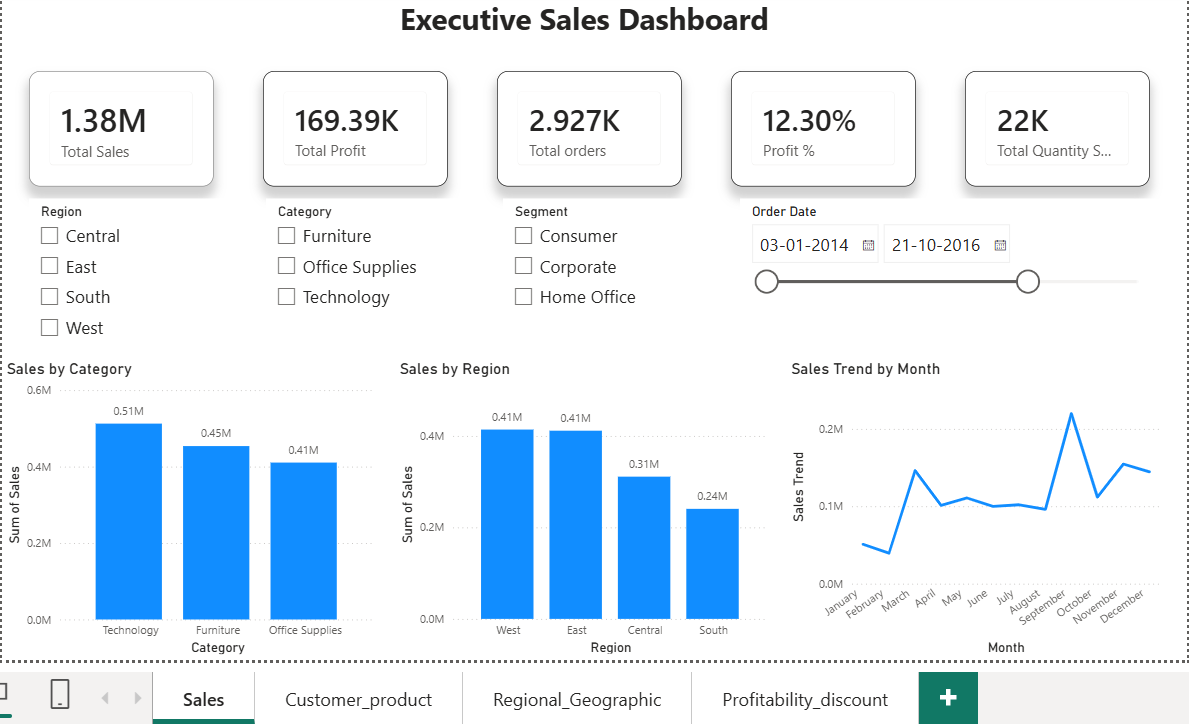

This screenshot's page, from the dashboard's own definition file:
{"tool":"powerbi","page":{"name":"Sales","canvas":[1280,720],"ordinal":0},"visuals":[{"type":"group","id":"g1","title":"Group 1","box":[29.1,84.2,1209.6,124.7],"z":0},{"type":"clusteredColumnChart","title":" Sales by Category","fields":{"Category":["Orders.Category"],"Y":["Sum(Orders.Sales)"]},"box":[0,395.1,407.8,323.8],"z":0,"group":"g2"},{"type":"group","id":"g2","title":"Group 2","box":[0,395.1,1254.9,323.8],"z":1000},{"type":"clusteredColumnChart","title":"Sales by Region","fields":{"Category":["Orders.Region"],"Y":["Sum(Orders.Sales)"]},"box":[423.6,395.1,407.8,323.2],"z":1000,"group":"g2"},{"type":"cardVisual","fields":{"Data":["Sum(Orders.Sales)"]},"box":[29.1,84.2,199.2,124.7],"z":2000,"group":"g1"},{"type":"group","id":"g3","title":"Group 3","box":[29.1,221.8,1219.3,160.3],"z":2000},{"type":"slicer","fields":{"Values":["Orders.Region"]},"box":[29.1,221.8,223.5,160.3],"z":2000,"group":"g3"},{"type":"textbox","box":[424.2,0,422.6,56.7],"z":3000},{"type":"cardVisual","fields":{"Data":["Sum(Orders.Profit)"]},"box":[281.7,84.2,199.2,124.7],"z":3000,"group":"g1"},{"type":"slicer","fields":{"Values":["Orders.Category"]},"box":[285.2,221.8,223,159.7],"z":3000,"group":"g3"},{"type":"cardVisual","fields":{"Data":["Count(Orders.Order ID)"]},"box":[534.3,84.2,199.2,124.7],"z":4000,"group":"g1"},{"type":"slicer","fields":{"Values":["Orders.Segment"]},"box":[540.9,221.8,223,159.7],"z":4000,"group":"g3"},{"type":"slicer","fields":{"Values":["Orders.Order Date"]},"box":[796.6,221.8,451.8,159.7],"z":5000,"group":"g3"},{"type":"lineChart","fields":{"Category":["Orders.Order Date.Variation.Date Hierarchy.Month"],"Y":["Sum(Orders.Sales)"]},"box":[847.2,395.1,407.8,323.2],"z":6000,"group":"g2"},{"type":"cardVisual","fields":{"Data":["Orders.Profit Margin %"]},"box":[786.9,84.2,199.2,124.7],"z":8000,"group":"g1"},{"type":"cardVisual","fields":{"Data":["Sum(Orders.Quantity)"]},"box":[1039.5,84.2,199.2,124.7],"z":9000,"group":"g1"}]}

Visuals, with their boxes on the page's 1280x720 design canvas (x1, y1, x2, y2). These are canvas units, not pixel positions in the 1189x724 screenshot, which may show the page scaled, cropped or inside an application window:
"Group 1" group: box(29, 84, 1239, 209)
" Sales by Category" clusteredColumnChart: box(0, 395, 408, 719)
"Group 2" group: box(0, 395, 1255, 719)
"Sales by Region" clusteredColumnChart: box(424, 395, 831, 718)
cardVisual - Sum(Orders.Sales): box(29, 84, 228, 209)
"Group 3" group: box(29, 222, 1248, 382)
slicer - Orders.Region: box(29, 222, 253, 382)
textbox: box(424, 0, 847, 57)
cardVisual - Sum(Orders.Profit): box(282, 84, 481, 209)
slicer - Orders.Category: box(285, 222, 508, 382)
cardVisual - Count(Orders.Order ID): box(534, 84, 734, 209)
slicer - Orders.Segment: box(541, 222, 764, 382)
slicer - Orders.Order Date: box(797, 222, 1248, 382)
lineChart - Orders.Order Date.Variation.Date Hierarchy.Month x Sum(Orders.Sales): box(847, 395, 1255, 718)
cardVisual - Orders.Profit Margin %: box(787, 84, 986, 209)
cardVisual - Sum(Orders.Quantity): box(1040, 84, 1239, 209)
